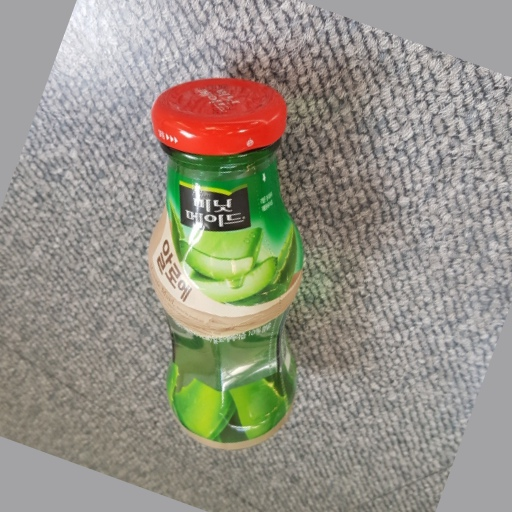Glass_4: (143, 72, 308, 448)
